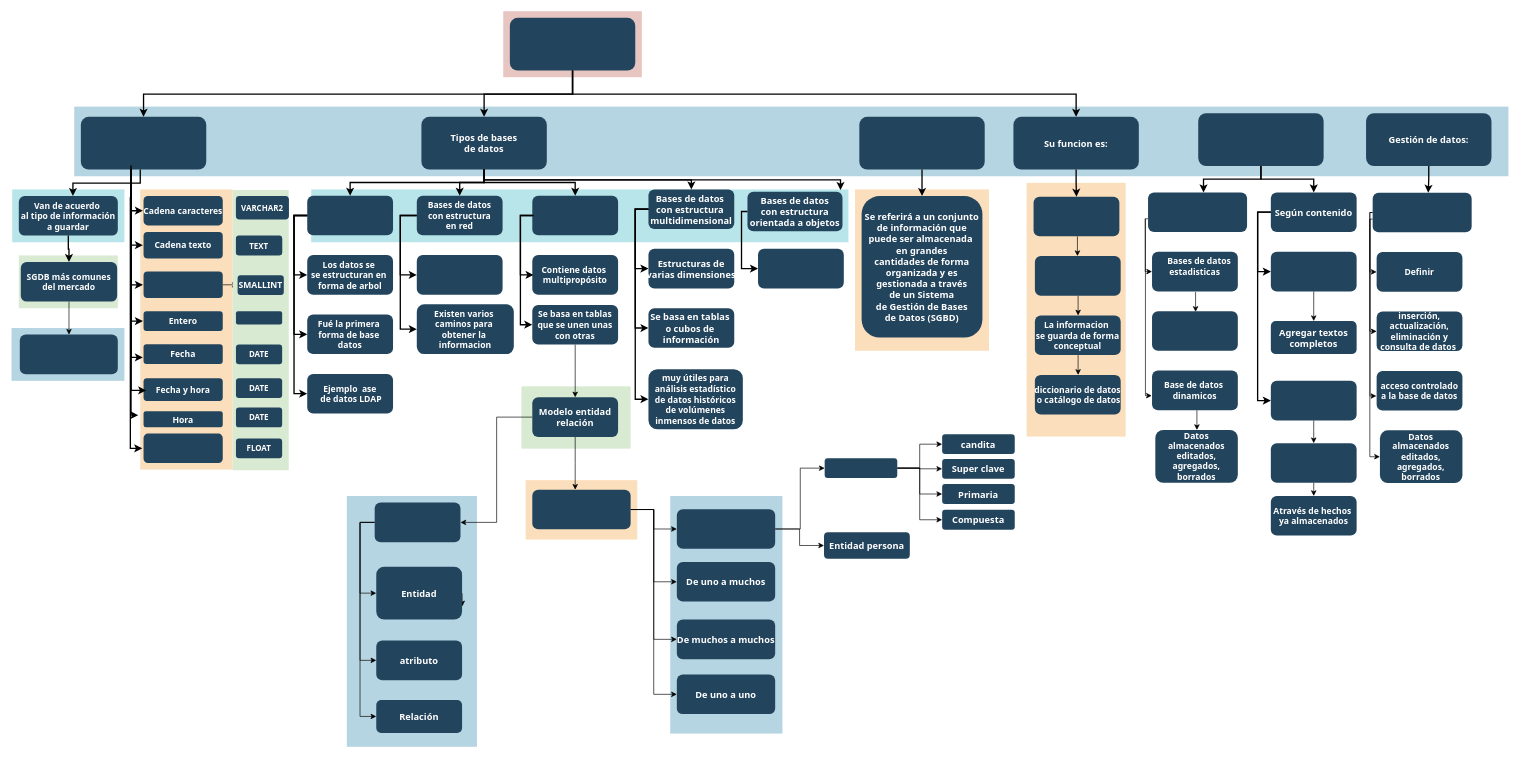
This 1519x758 diagram has some shape labels left out. Each missing label, with the centre of its shape:
"Admite relación de datos unos con otros" goes at (x=459, y=274).
"Base de datos deductiva" goes at (x=1313, y=400).
"Bases de datos" goes at (x=572, y=43).
"Bases de datos con estructura jerárquica" goes at (x=350, y=215).
"Bases de datos con estructura relacional" goes at (x=575, y=215).
"Clave" goes at (x=860, y=468).
"Datos historicos de gran volumen y almacenamiento" goes at (x=1195, y=330).
"Datos orientados a objetos" goes at (x=800, y=268).
"Deduccón o inferencia" goes at (x=1313, y=462).
"Documentados" goes at (x=1313, y=271).
"Entero con decimales" goes at (x=182, y=448).
"Entero pequeño" goes at (x=182, y=284).
"Entre Entidades" goes at (x=725, y=528).
"INTEGER" goes at (x=259, y=317).
"ORACLE, PostgeSQL, MySQL y SQLServer" goes at (x=68, y=354).
"Para organizar y definir la información de forma sistemática" goes at (x=1076, y=216).
"Permite" goes at (x=1421, y=212).
"Permite almacenar Metadatos" goes at (x=1077, y=275).
"Se compone de" goes at (x=417, y=522).
"Segun variabilidad de datos" goes at (x=1197, y=212).
"Significado" goes at (x=921, y=142).
"Su clasificación es:" goes at (x=1260, y=139).
"Tipos de datos" goes at (x=143, y=142).
"Tipos de realaciòn" goes at (x=581, y=509).
